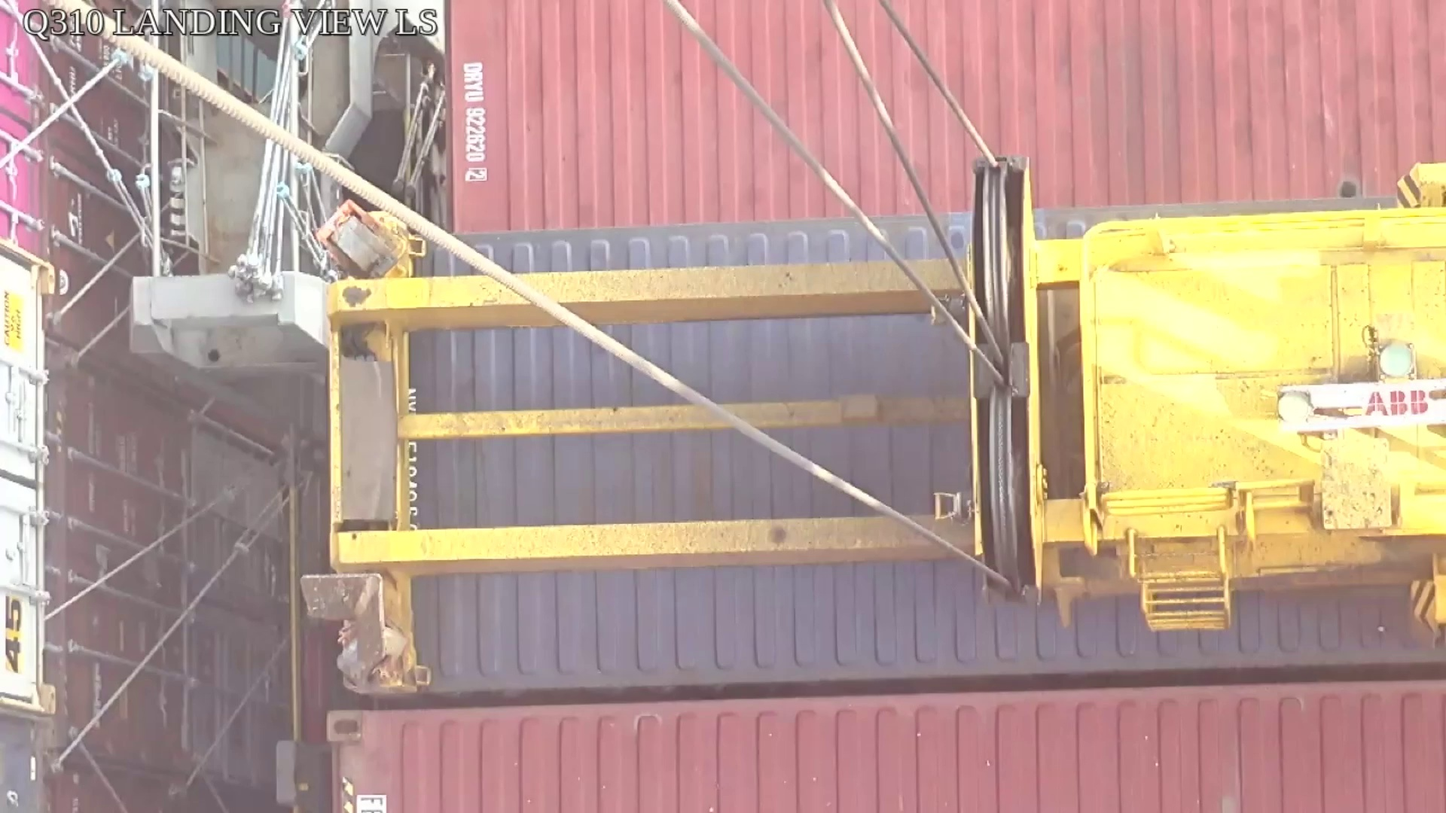aa: (969, 157, 1048, 608)
